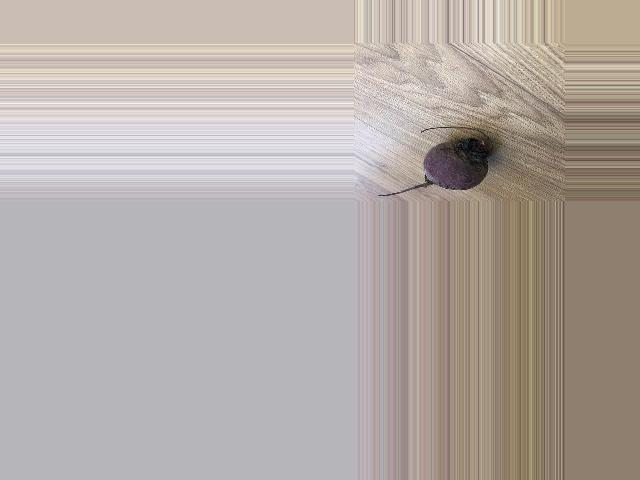beet: (377, 127, 491, 196)
